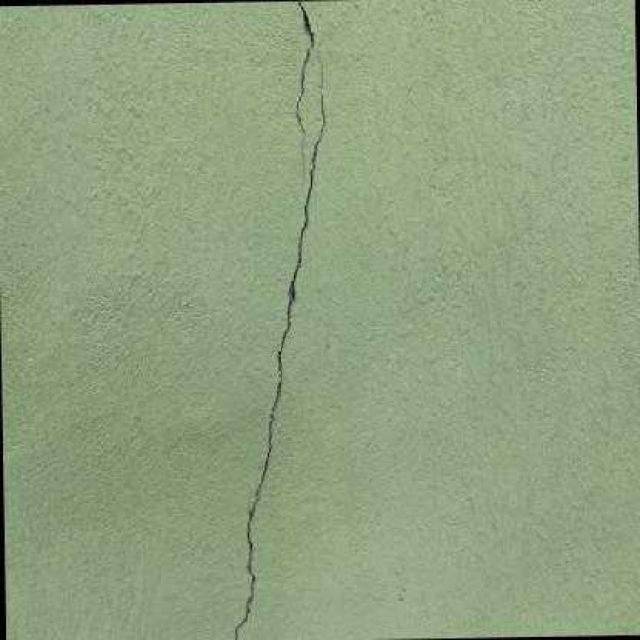D00: (234, 41, 325, 640), (296, 0, 313, 191)
